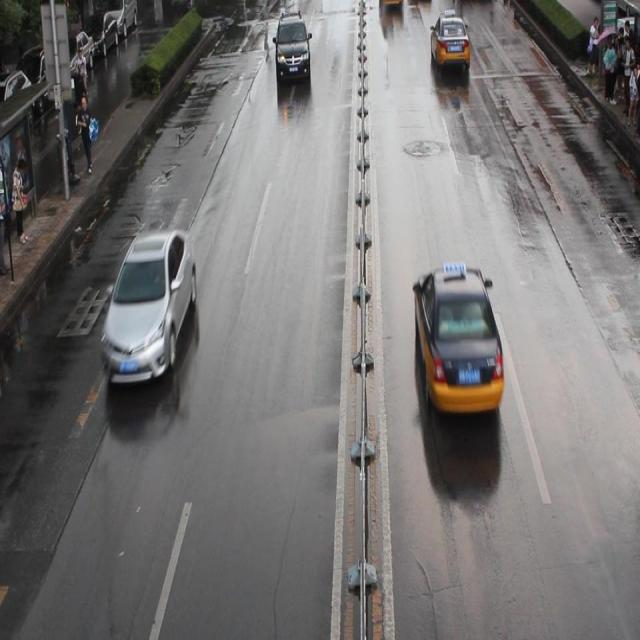car: (100, 226, 196, 387), (412, 262, 503, 416), (430, 12, 470, 69), (275, 14, 309, 80)
